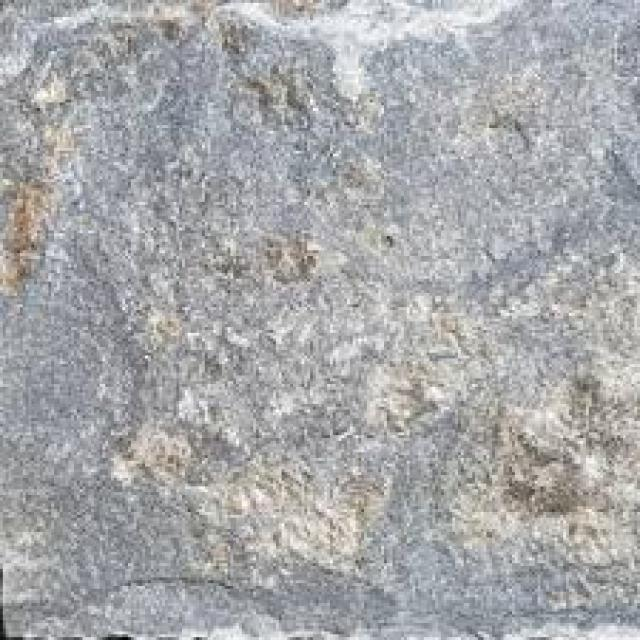Metamorphic: (3, 3, 634, 631)
